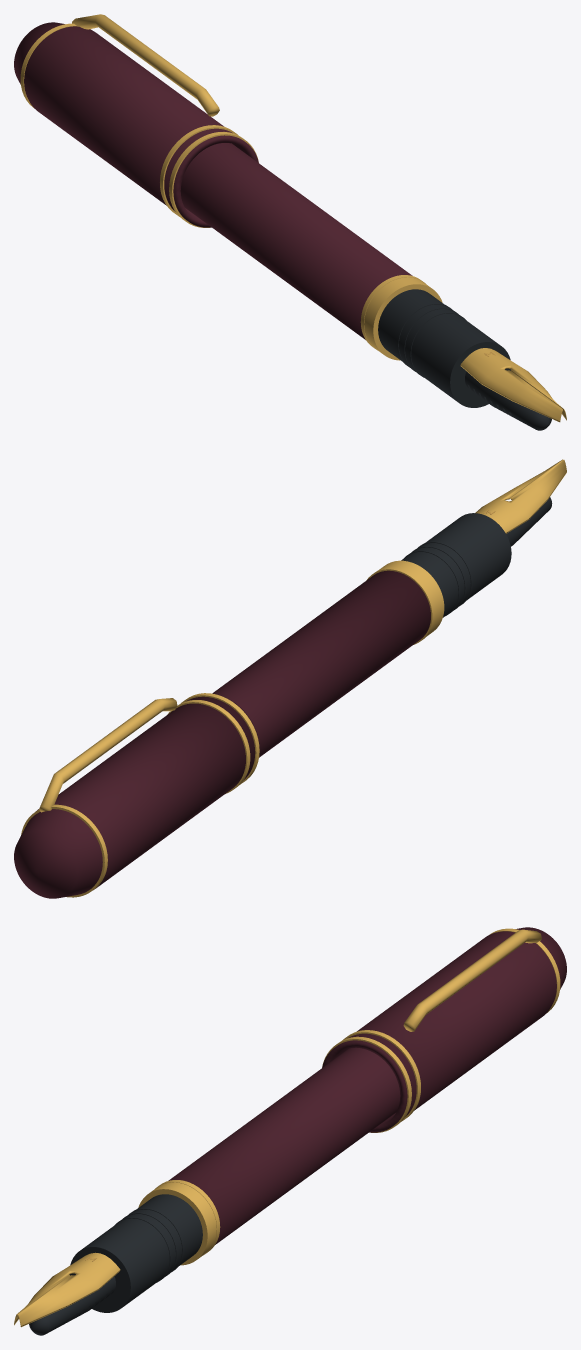
Rendered from 20_Fountain_Pen.glb.
3 renders of one model, top to bottom at view 1: azimuth 30°, elevation 25°; view 2: azimuth 150°, elevation 25°; view 3: azimuth 330°, elevation 25°, orthographic.
Parts seen in each view (by area): view 1: 01_resin_barrel_and_posted_cap, 02_grip_section_and_collar, 03_gold_nib_with_slit_and_breather, 04_ebonite_feed_and_ink_channels; view 2: 01_resin_barrel_and_posted_cap, 02_grip_section_and_collar, 03_gold_nib_with_slit_and_breather, 04_ebonite_feed_and_ink_channels; view 3: 01_resin_barrel_and_posted_cap, 02_grip_section_and_collar, 03_gold_nib_with_slit_and_breather, 04_ebonite_feed_and_ink_channels.
Part boxes in pixels (box(x1,y1,x2,y2)): 01_resin_barrel_and_posted_cap: box(14, 14, 425, 350); 02_grip_section_and_collar: box(364, 277, 511, 407); 03_gold_nib_with_slit_and_breather: box(460, 348, 566, 422); 04_ebonite_feed_and_ink_channels: box(465, 371, 551, 430); 01_resin_barrel_and_posted_cap: box(14, 567, 435, 898); 02_grip_section_and_collar: box(379, 513, 511, 635); 03_gold_nib_with_slit_and_breather: box(475, 459, 566, 533); 04_ebonite_feed_and_ink_channels: box(506, 497, 552, 546); 01_resin_barrel_and_posted_cap: box(155, 927, 566, 1254); 02_grip_section_and_collar: box(70, 1182, 216, 1312); 03_gold_nib_with_slit_and_breather: box(14, 1252, 120, 1327); 04_ebonite_feed_and_ink_channels: box(29, 1276, 115, 1335).
Size of the model in its own units: 0.0165 by 0.0193 by 0.172.
